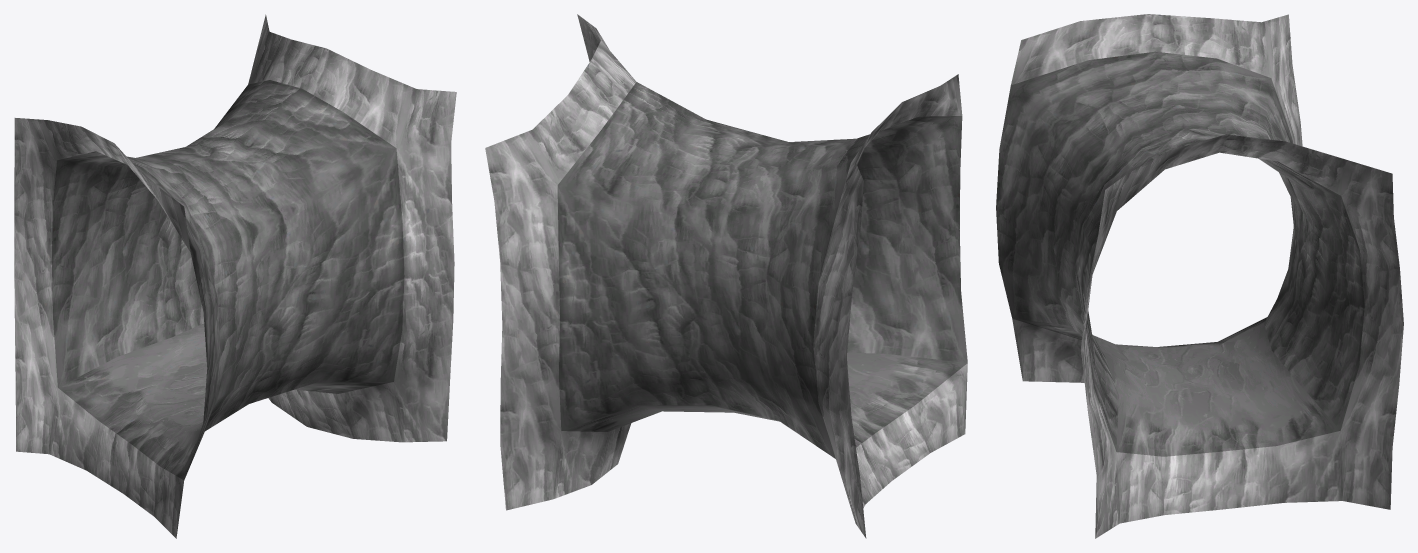
Rendered from SWORDLIGHT20_PS-AREA03_20.fbx.
3 views of the same model, side by side, from view 1: azimuth 30°, elevation 25°; view 2: azimuth 150°, elevation 25°; view 3: azimuth 270°, elevation 25° (orthographic). The views are drawn at different scales.
Visible parts, largest first — view 1: SWORDLIGHT20_PS-AREA03_20; view 2: SWORDLIGHT20_PS-AREA03_20; view 3: SWORDLIGHT20_PS-AREA03_20.
Part boxes in pixels (x1,y1,x2,y2): SWORDLIGHT20_PS-AREA03_20: [14, 14, 456, 538]; SWORDLIGHT20_PS-AREA03_20: [485, 14, 967, 538]; SWORDLIGHT20_PS-AREA03_20: [996, 14, 1403, 538].
Size of the model in its own units: 150467 by 150709 by 144163.
Materials: 4 (4 with a texture image).
